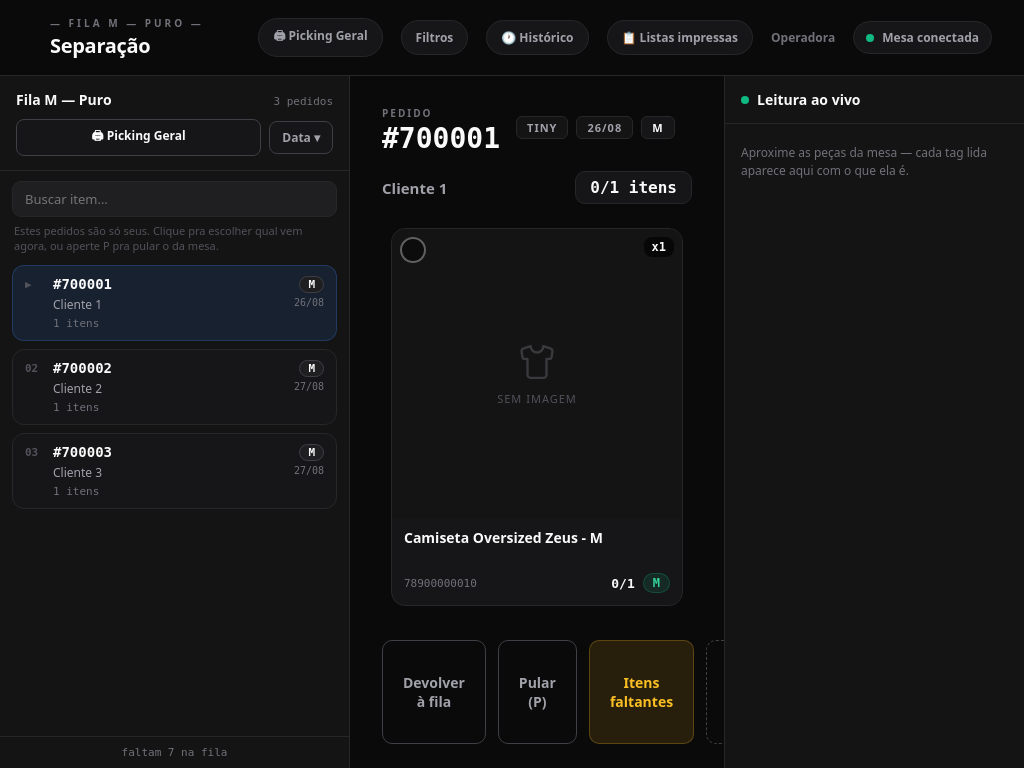
Test: seletor Data com filtro de produto ativo › De/Até + Aplicar manda as duas pontas independentes
Click the button "Data ▾" at point(301, 138), box 269,121 -> 333,154
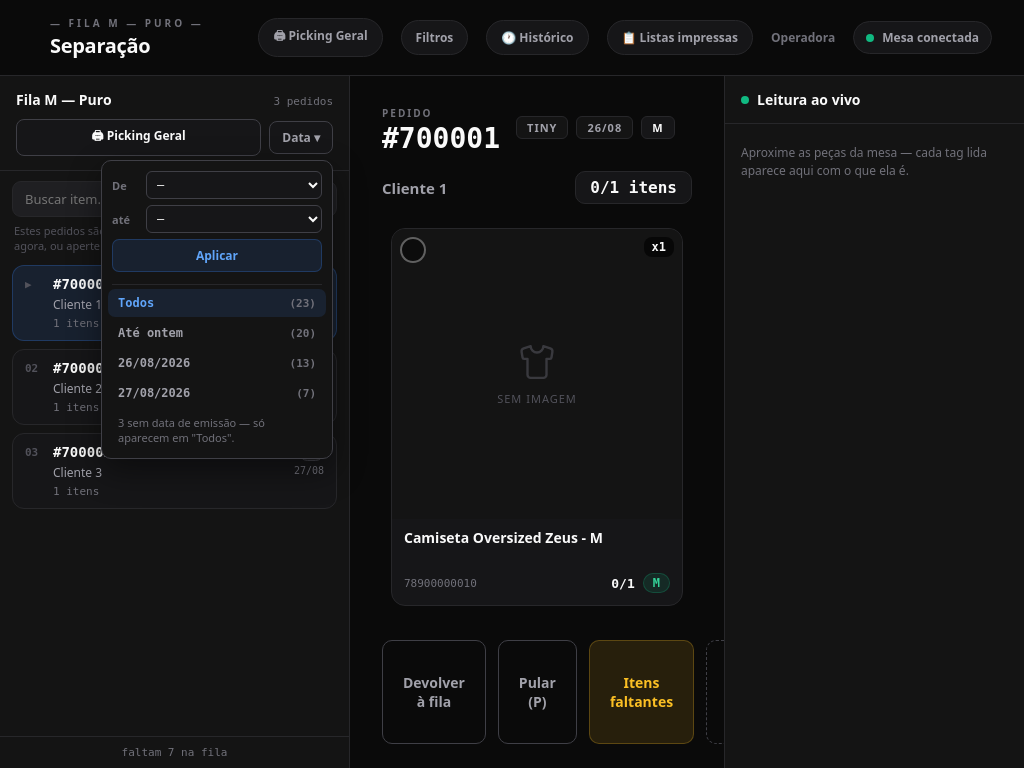
Expected: the button "26/08/2026 (13)" is shown, 108,349 -> 326,377
Select "26/08/2026" in the dropdown named "De" at point(234, 185), box 146,171 -> 322,199
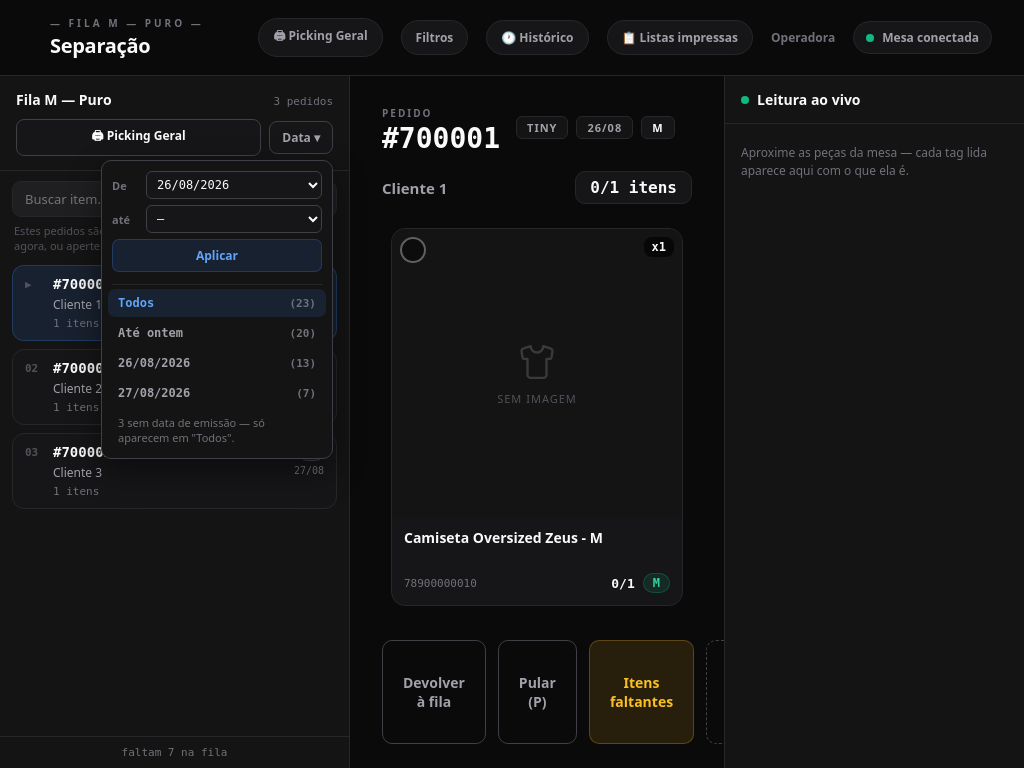
Select "27/08/2026" in the dropdown named "Até" at point(234, 219), box 146,205 -> 322,233
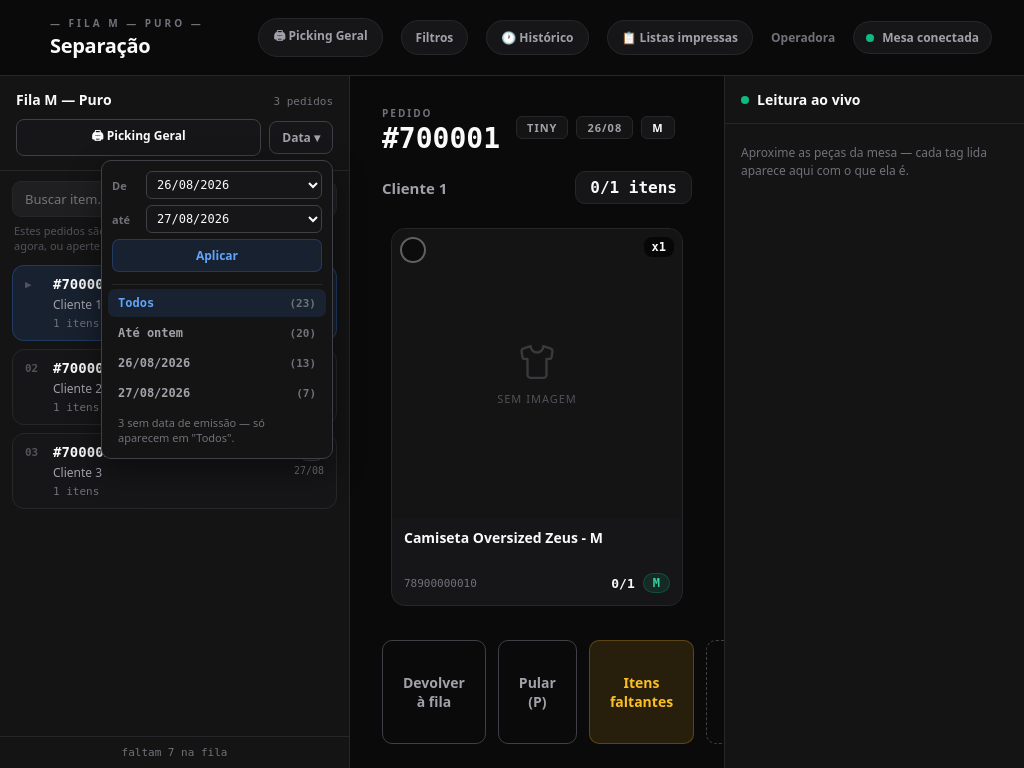
Click the button "Aplicar" at point(217, 256), box 112,239 -> 322,272
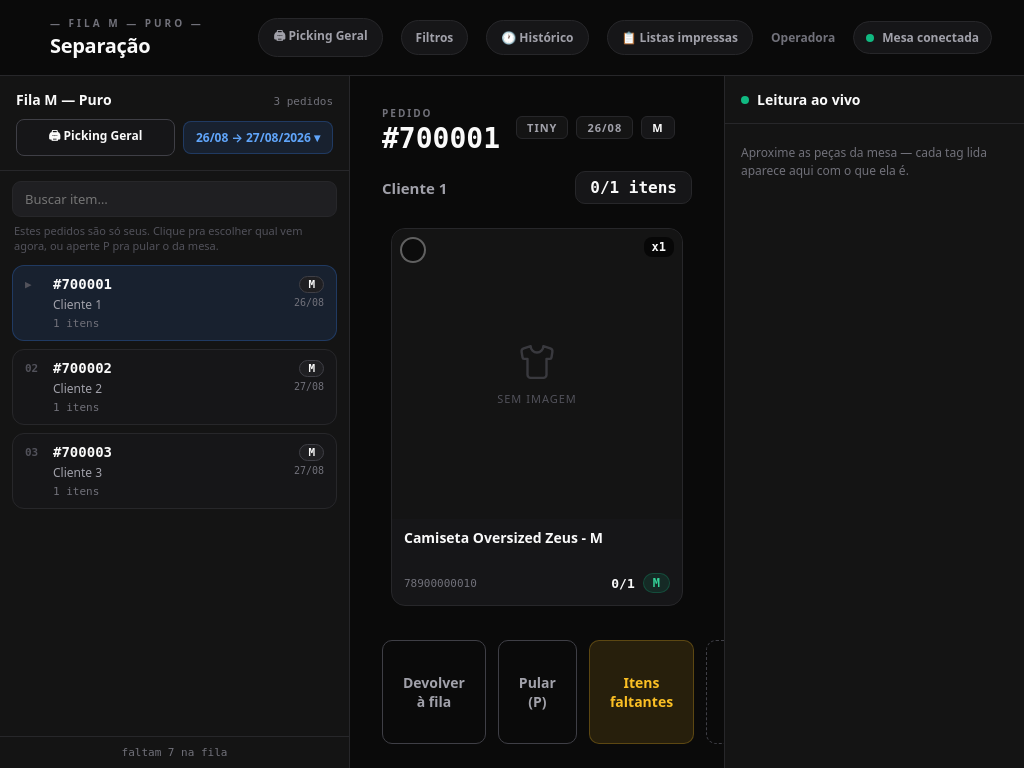
Expected: the button "26/08 → 27/08/2026 ▾" is shown, 183,121 -> 333,154
